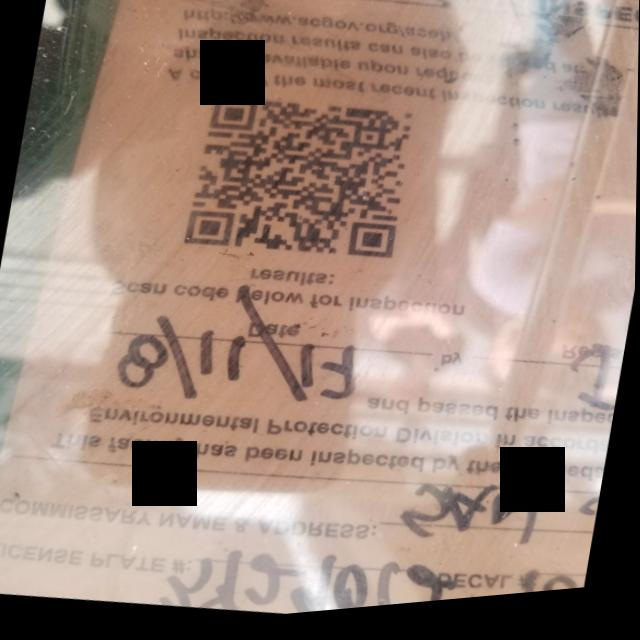QR_CODE: (149, 68, 434, 313)
